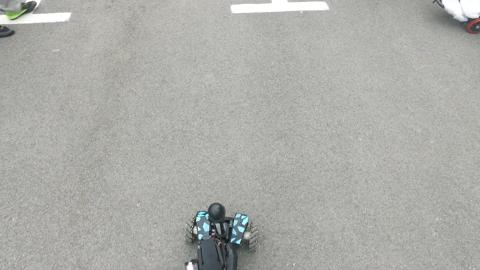chariot: (183, 202, 258, 270)
